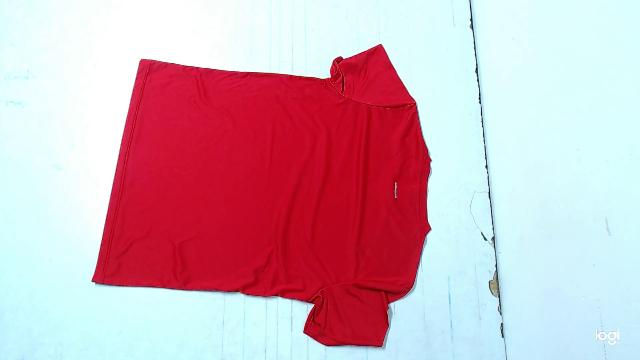new-garment: (93, 45, 430, 346)
